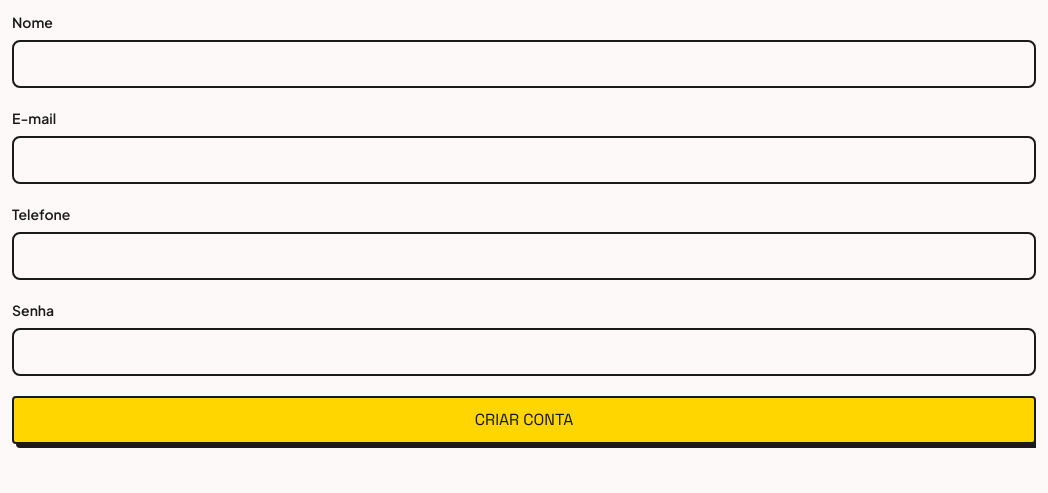
Scenario: formulário de cadastro (RF01) › com dados válidos envia normalizado e mostra o erro de e-mail já cadastrado
The image size is (1048, 493).
Type "Maria Silva" into the field labelled "Nome" at (524, 64), box [12,40,1036,88]
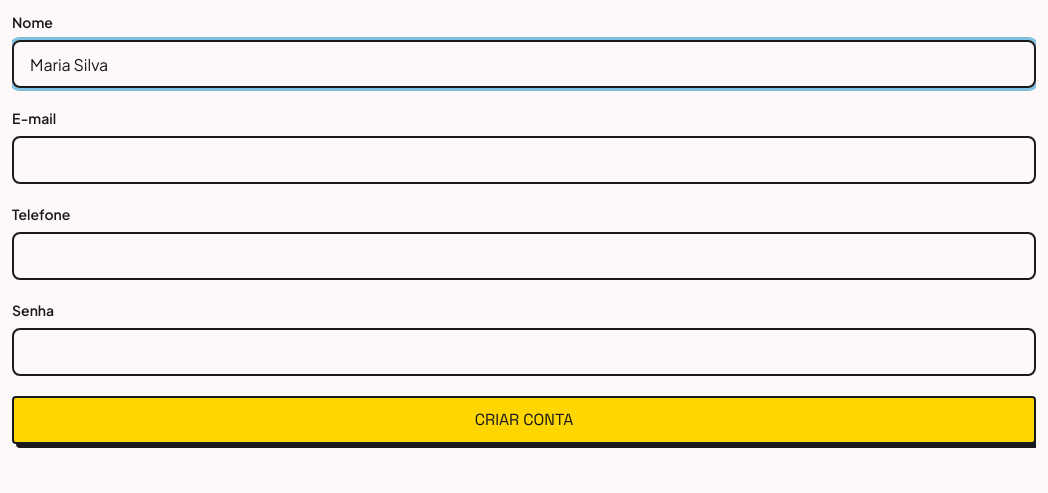
Type "Maria@Kolo.test" into the field labelled "E-mail" at (524, 160), box [12,136,1036,184]
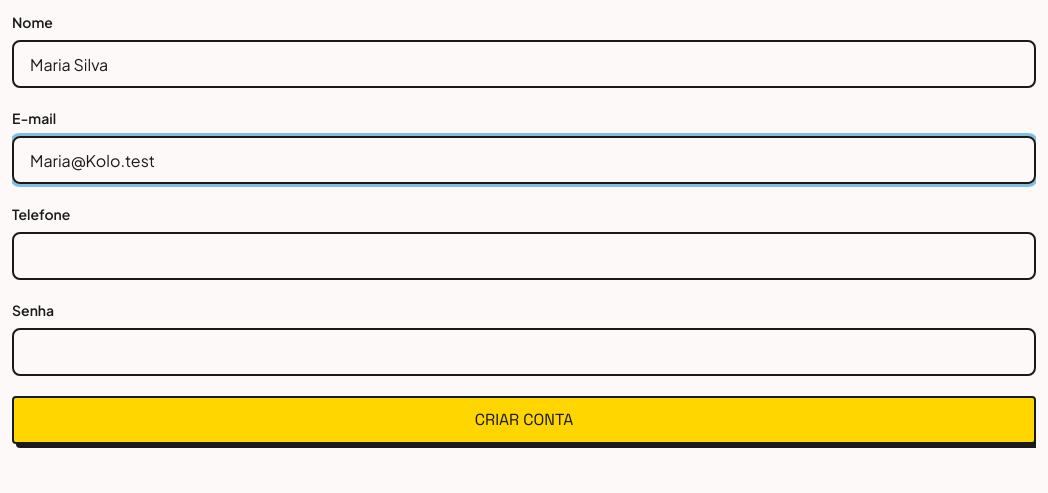
Type "(11) 98765-4321" into the field labelled "Telefone" at (524, 256), box [12,232,1036,280]
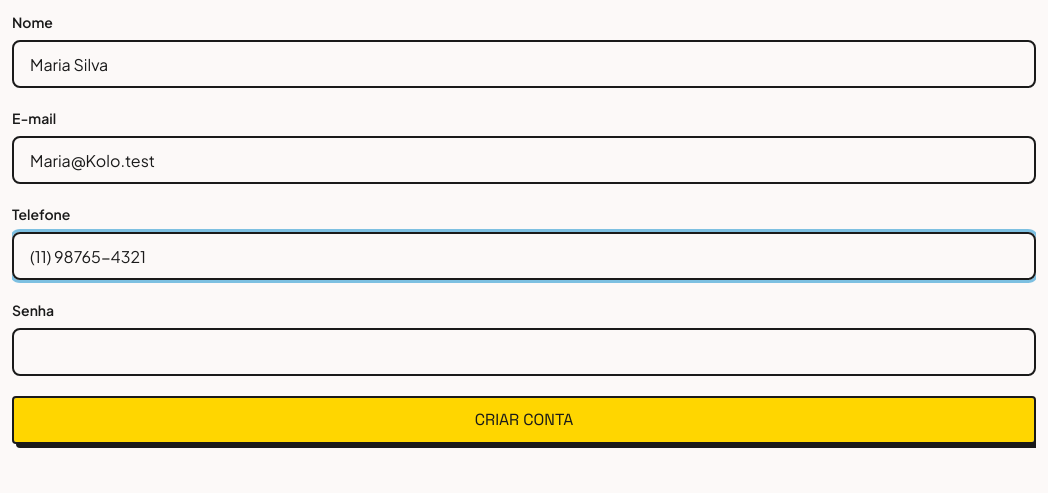
Type "senha-segura" into the password field labelled "Senha" at (524, 352), box [12,328,1036,376]
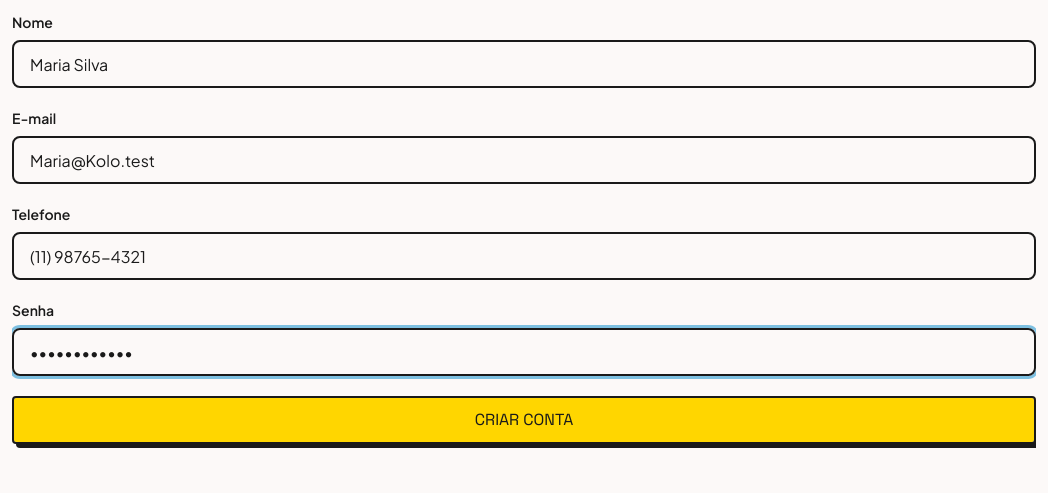
Click the button "Criar conta" at (524, 420), box [12,396,1036,444]
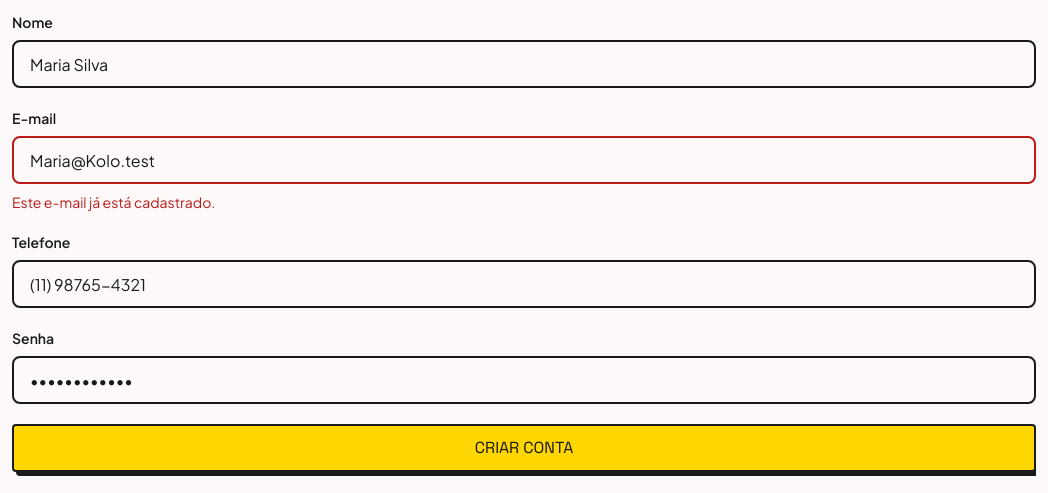
Check: the text "Este e-mail já está cadastrado." is shown, box [12,193,215,211]
